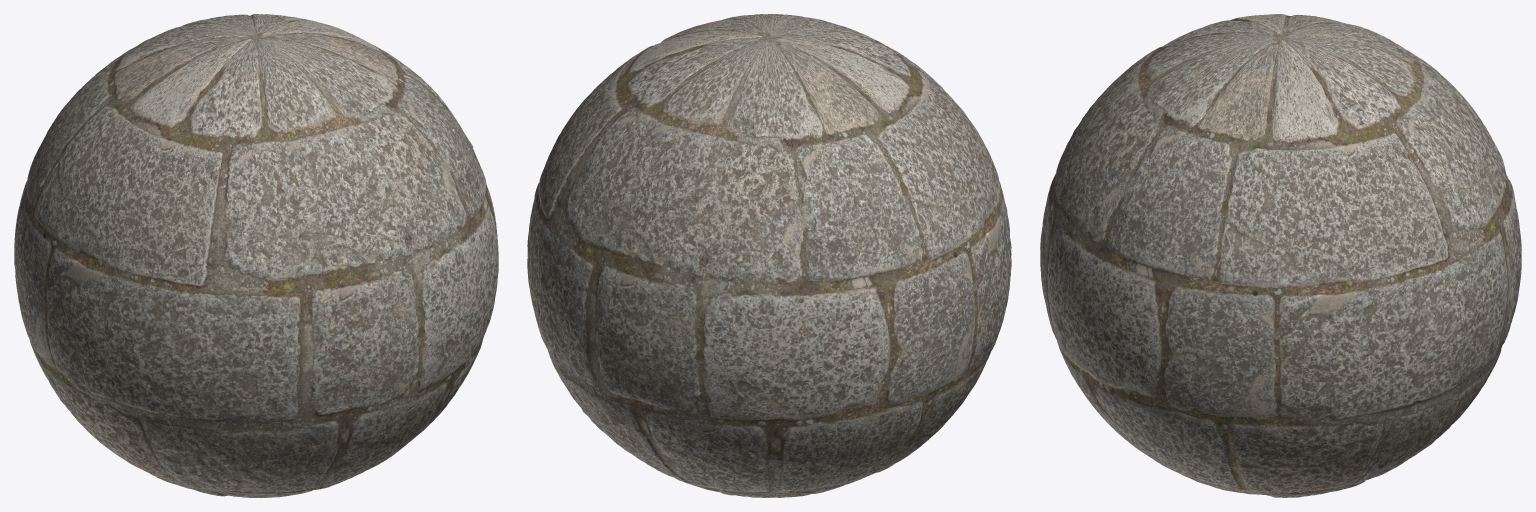
File: rock_tile_floor_1k.gltf
3 views of the same model, side by side, from view 1: azimuth 30°, elevation 25°; view 2: azimuth 150°, elevation 25°; view 3: azimuth 270°, elevation 25° (orthographic).
Visible parts, largest first — view 1: sphere_gltf; view 2: sphere_gltf; view 3: sphere_gltf.
Part boxes in pixels (x1,y1,x2,y2): sphere_gltf: (14, 14, 498, 497); sphere_gltf: (527, 14, 1011, 497); sphere_gltf: (1040, 14, 1521, 497).
Bounding box in the file's own units: 1.97 × 1.97 × 1.96.
Materials: 1 (1 with a texture image).
